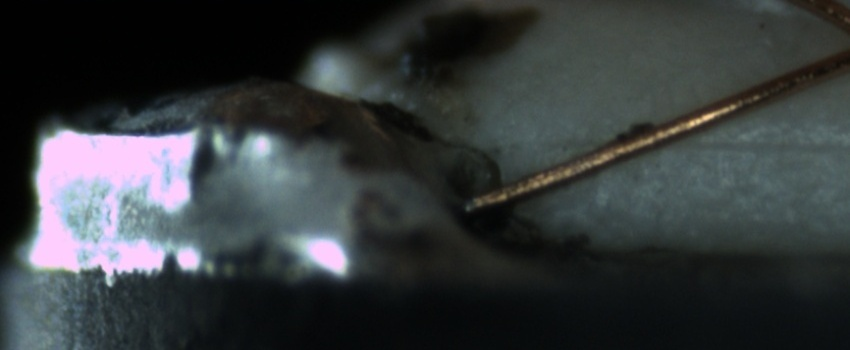DL: (532, 112, 850, 175)
